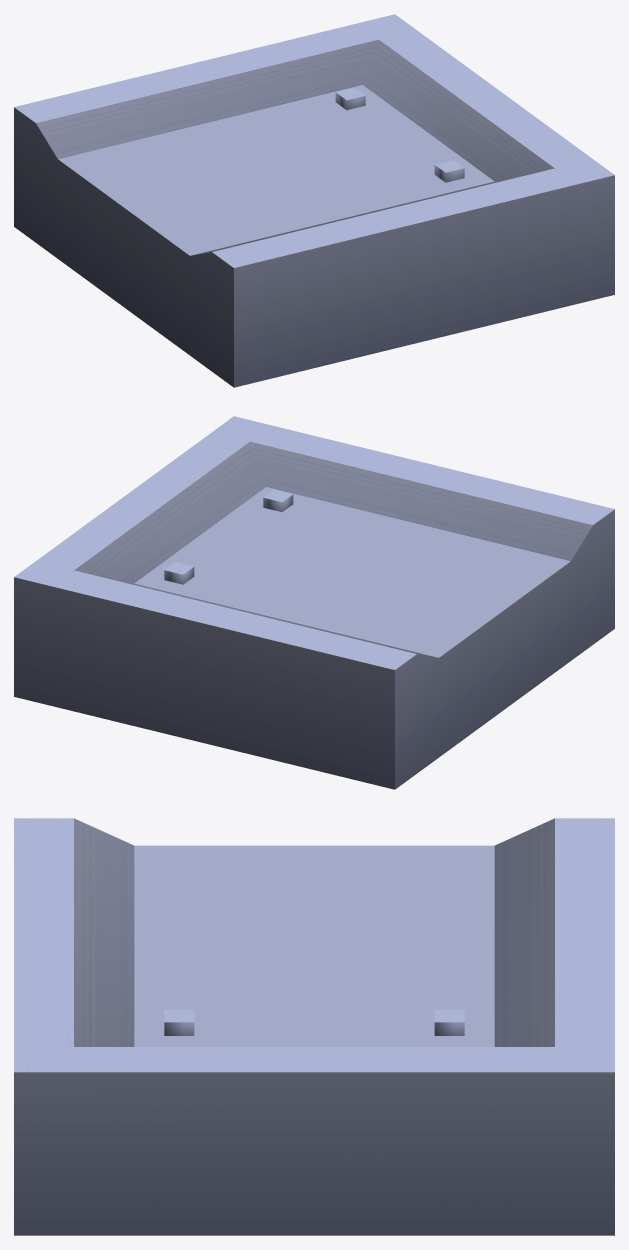
File: floor-panel-end.glb
The picture shows the model from 3 angles, top to bottom: view 1: azimuth 30°, elevation 25°; view 2: azimuth 150°, elevation 25°; view 3: azimuth 270°, elevation 25°; orthographic projection. The views are drawn at different scales.
Visible parts, largest first — view 1: floor-panel-end; view 2: floor-panel-end; view 3: floor-panel-end.
Boxes of the visible parts, <box> form: floor-panel-end: <box>14,14,614,387</box>; floor-panel-end: <box>14,416,614,789</box>; floor-panel-end: <box>14,818,614,1235</box>.
Size of the model in its own units: 1 by 0.3 by 1.
Materials: 1 (1 with a texture image).
